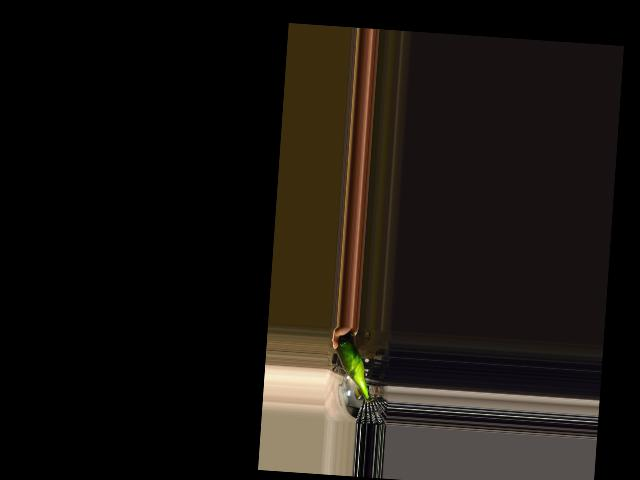beer: (330, 333, 377, 403)
